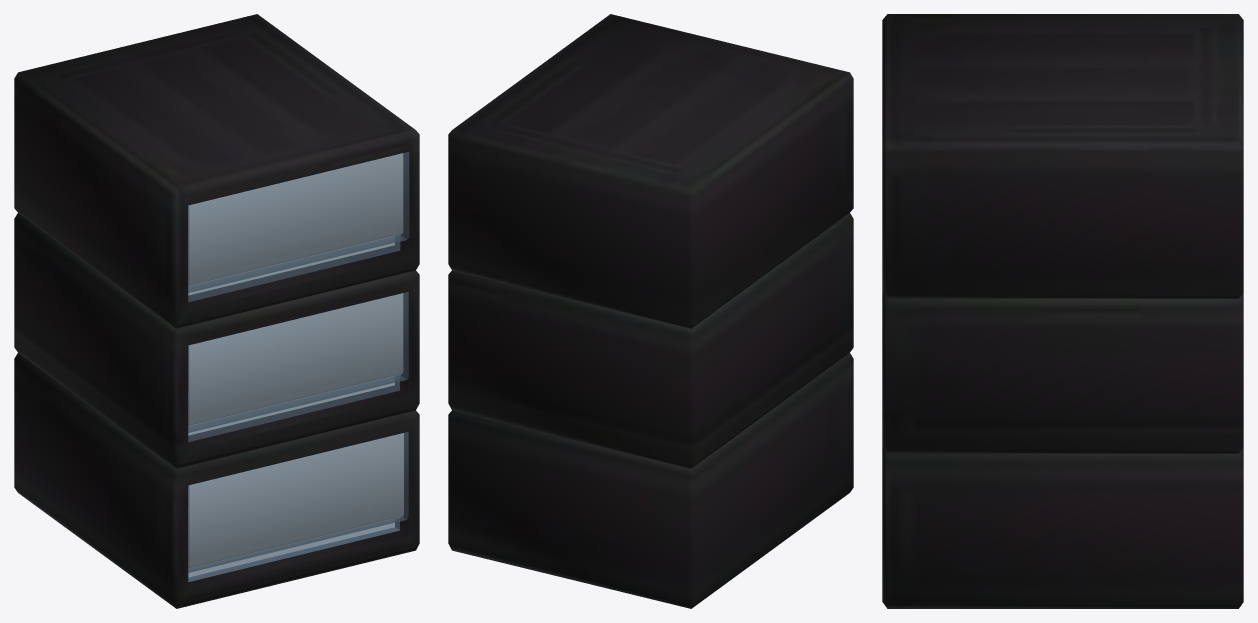
3 renders of one model, left to right at view 1: azimuth 30°, elevation 25°; view 2: azimuth 150°, elevation 25°; view 3: azimuth 270°, elevation 25°, orthographic. The views are drawn at different scales.
Size of the model in its own units: 7.43 by 12.09 by 8.5.
Materials: 4 (3 with a texture image).
